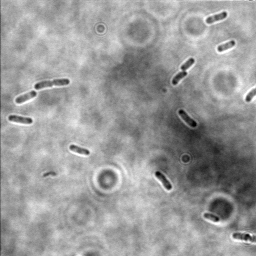Dividing: (170, 56, 195, 86), (34, 77, 70, 89)
Rod: (177, 108, 198, 129), (153, 169, 173, 191), (13, 89, 37, 105), (204, 10, 228, 25), (67, 143, 91, 156), (7, 114, 34, 125), (216, 39, 236, 53), (202, 211, 220, 223)
